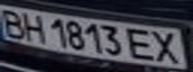1: (81, 20, 103, 54), (45, 16, 69, 47)
3: (100, 23, 127, 57)
8: (63, 18, 84, 52)
B: (0, 7, 27, 38)
E: (124, 26, 160, 62)
H: (18, 11, 48, 43)
X: (148, 28, 187, 65)
